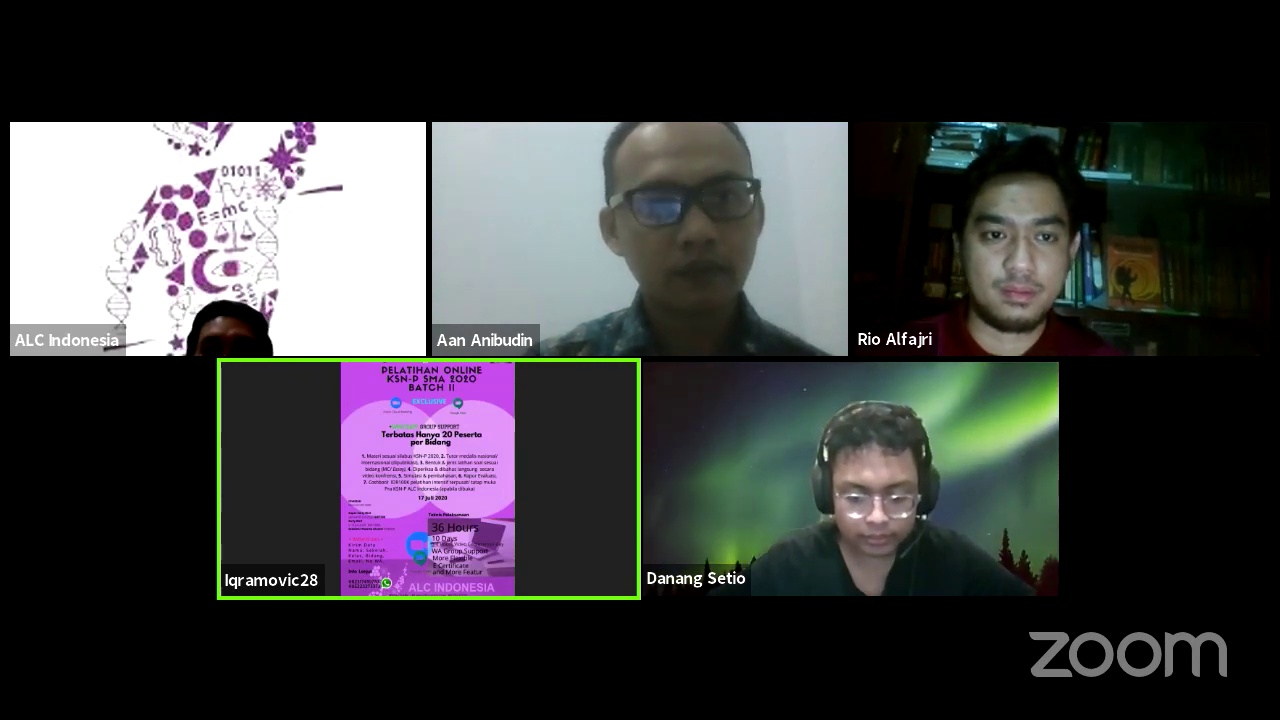Distracted: (820, 432, 929, 544)
Not Distracted: (592, 134, 797, 308), (954, 164, 1088, 346)
